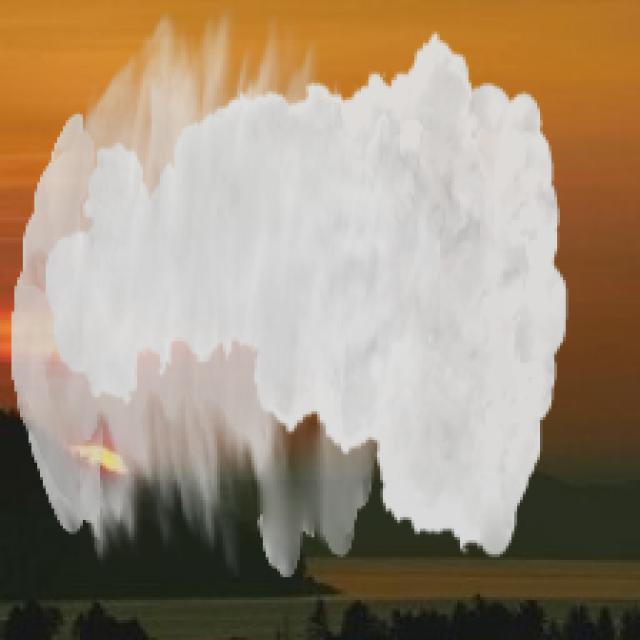smoke: (11, 9, 568, 577)
